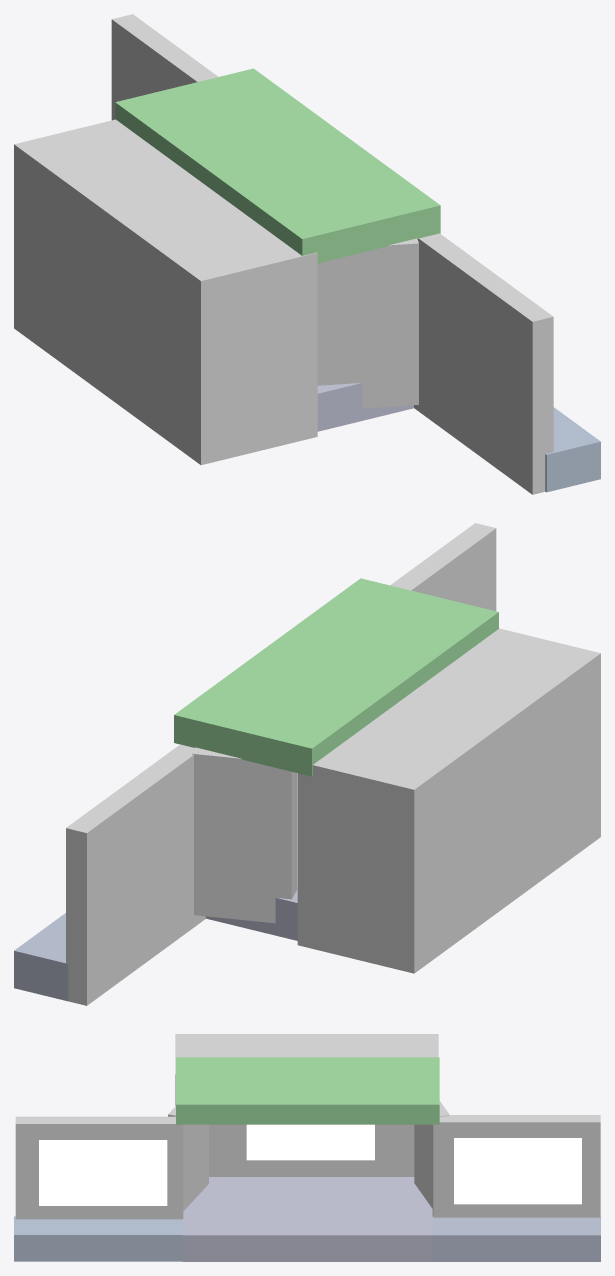
The picture shows the model from 3 angles, top to bottom: view 1: azimuth 30°, elevation 25°; view 2: azimuth 150°, elevation 25°; view 3: azimuth 270°, elevation 25°; orthographic projection. The views are drawn at different scales.
Parts seen in each view (by area): view 1: 立方体.005, 立方体.008, 立方体.004, 立方体.007, 立方体.003, 立方体.001, 立方体; view 2: 立方体.005, 立方体.008, 立方体.003, 立方体.006, 立方体.004, 立方体.002, 立方体; view 3: 立方体, 立方体.008, 立方体.005, 立方体.004, 立方体.003, 立方体.010, 立方体.009, 立方体.002, 立方体.001, 立方体.011, 立方体.007, 立方体.006.
Boxes of the visible parts, box(x1,y1,x2,y2) form: 立方体.005: box(14, 119, 317, 465); 立方体.008: box(115, 68, 440, 263); 立方体.004: box(414, 233, 553, 494); 立方体.007: box(317, 238, 418, 408); 立方体.003: box(111, 14, 218, 120); 立方体.001: box(545, 407, 600, 492); 立方体: box(317, 383, 413, 431); 立方体.005: box(297, 628, 600, 973); 立方体.008: box(174, 578, 498, 776); 立方体.003: box(66, 744, 205, 1005); 立方体.006: box(192, 747, 296, 923); 立方体.004: box(390, 523, 496, 611); 立方体.002: box(14, 913, 68, 1001); 立方体: box(205, 773, 297, 940); 立方体: box(182, 1177, 432, 1261); 立方体.008: box(176, 1057, 439, 1124); 立方体.005: box(175, 1034, 438, 1176); 立方体.004: box(15, 1116, 183, 1219); 立方体.003: box(433, 1115, 600, 1217); 立方体.010: box(454, 1138, 581, 1204); 立方体.009: box(39, 1140, 167, 1205); 立方体.002: box(432, 1217, 600, 1261); 立方体.001: box(14, 1216, 182, 1261); 立方体.011: box(246, 1124, 374, 1160); 立方体.007: box(168, 1106, 208, 1210); 立方体.006: box(414, 1101, 449, 1216).
Size of the model in its own units: 9.37 by 6.3 by 23.67.
